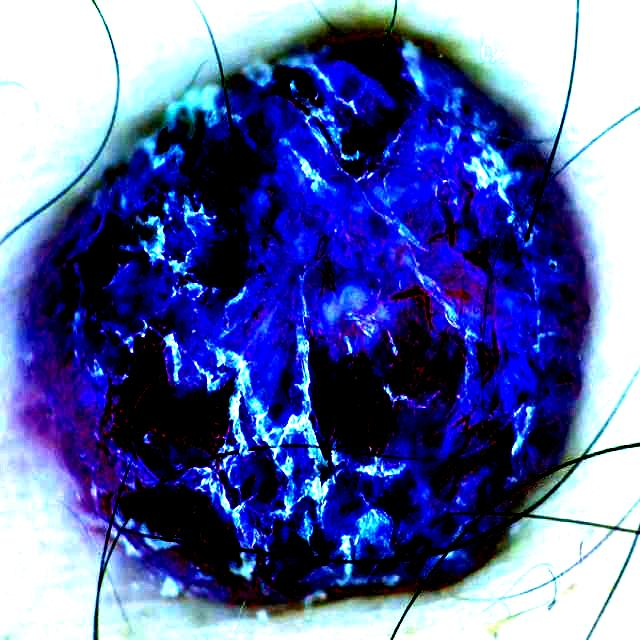BCC: (48, 41, 586, 594)
